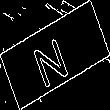N_NW: (33, 23, 77, 87)
